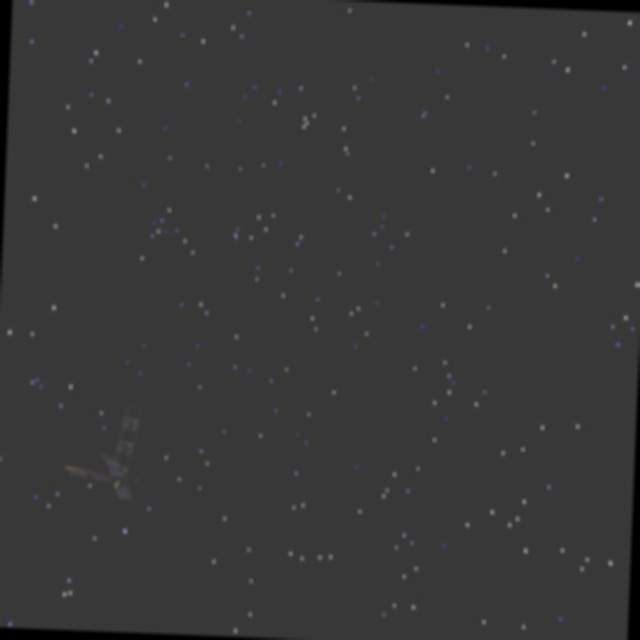satellite: (61, 399, 172, 509)
